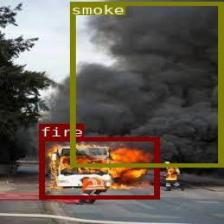fire: (39, 137, 158, 198)
smoke: (69, 1, 222, 166)
